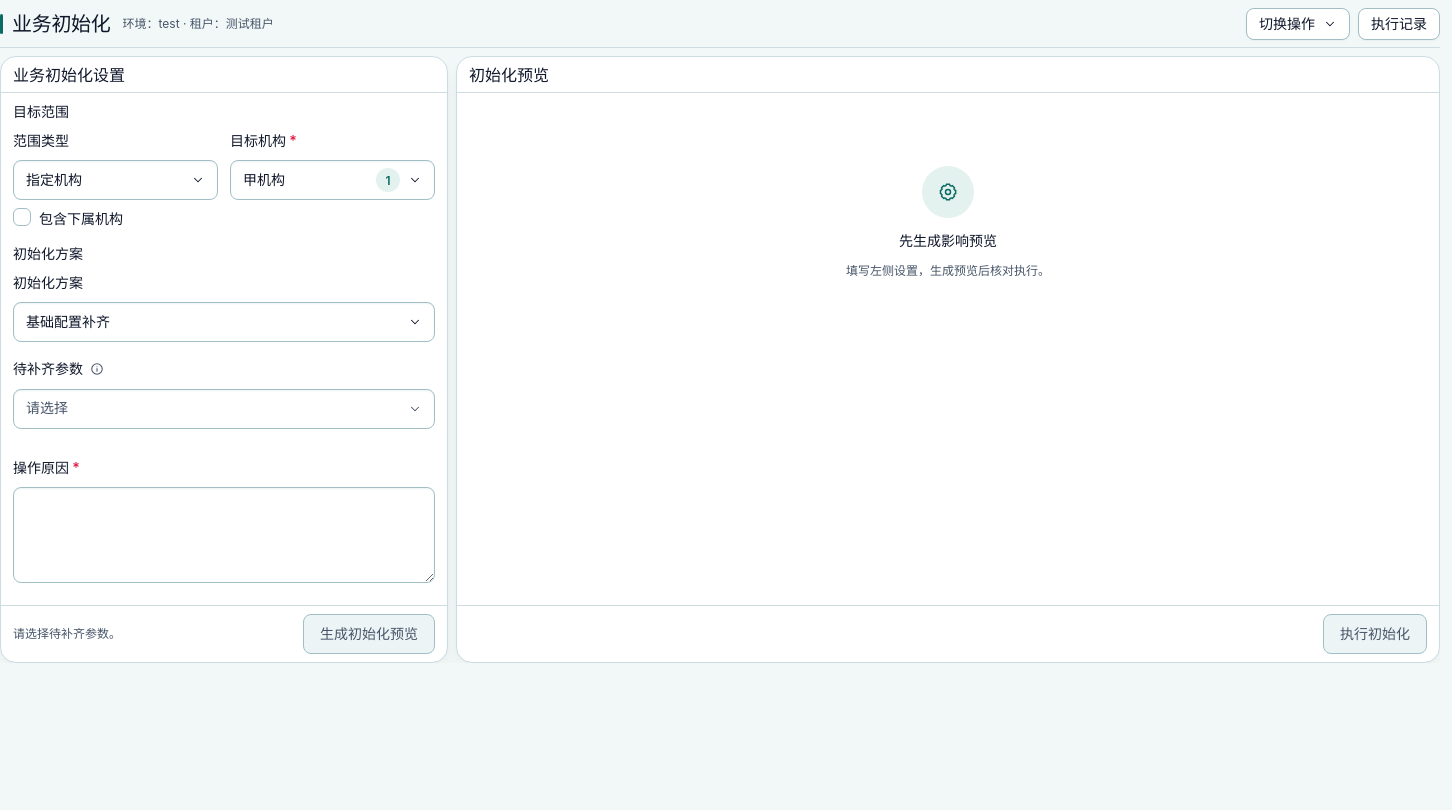
it: business maintenance scope and confirmation › clears the old executable plan when a replacement preview fails
Check: the text "环境：test · 租户：测试租户" is shown, box [122,14,274,32]
Click the dropdown named "待补齐参数".
click(47, 408)  # box [13,389,435,429]
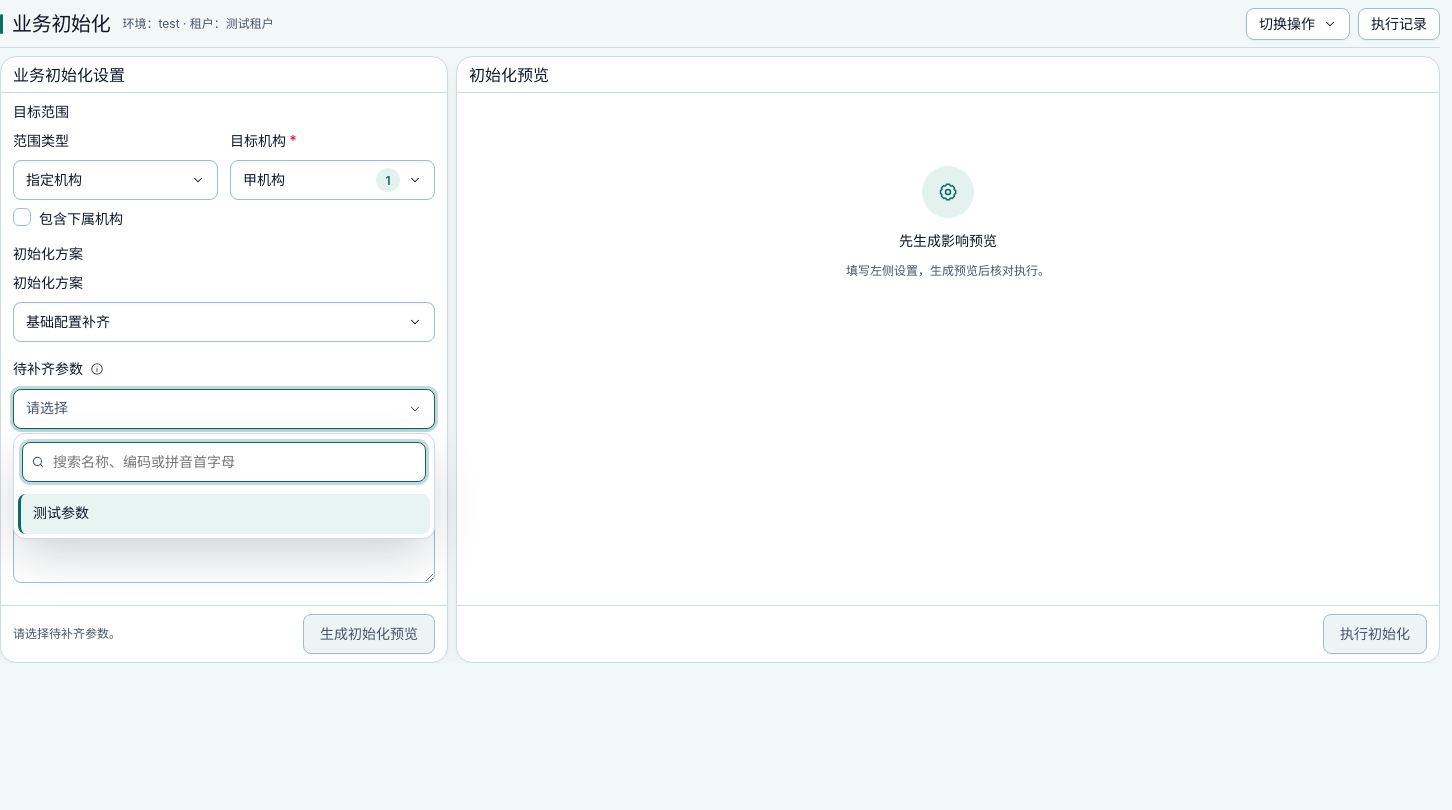
Click the option "测试参数".
click(61, 513)  # box [18,494,430,534]
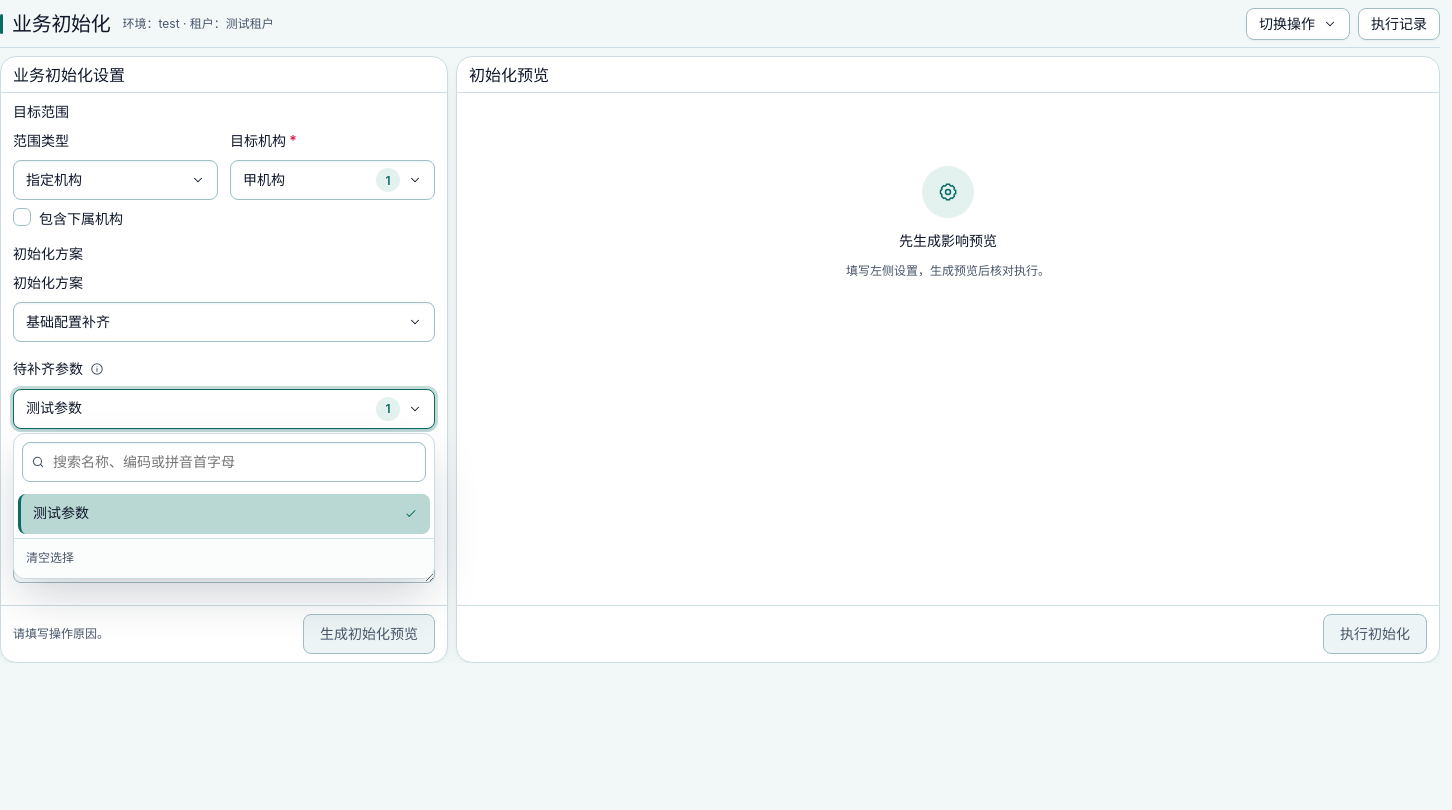
Press Escape
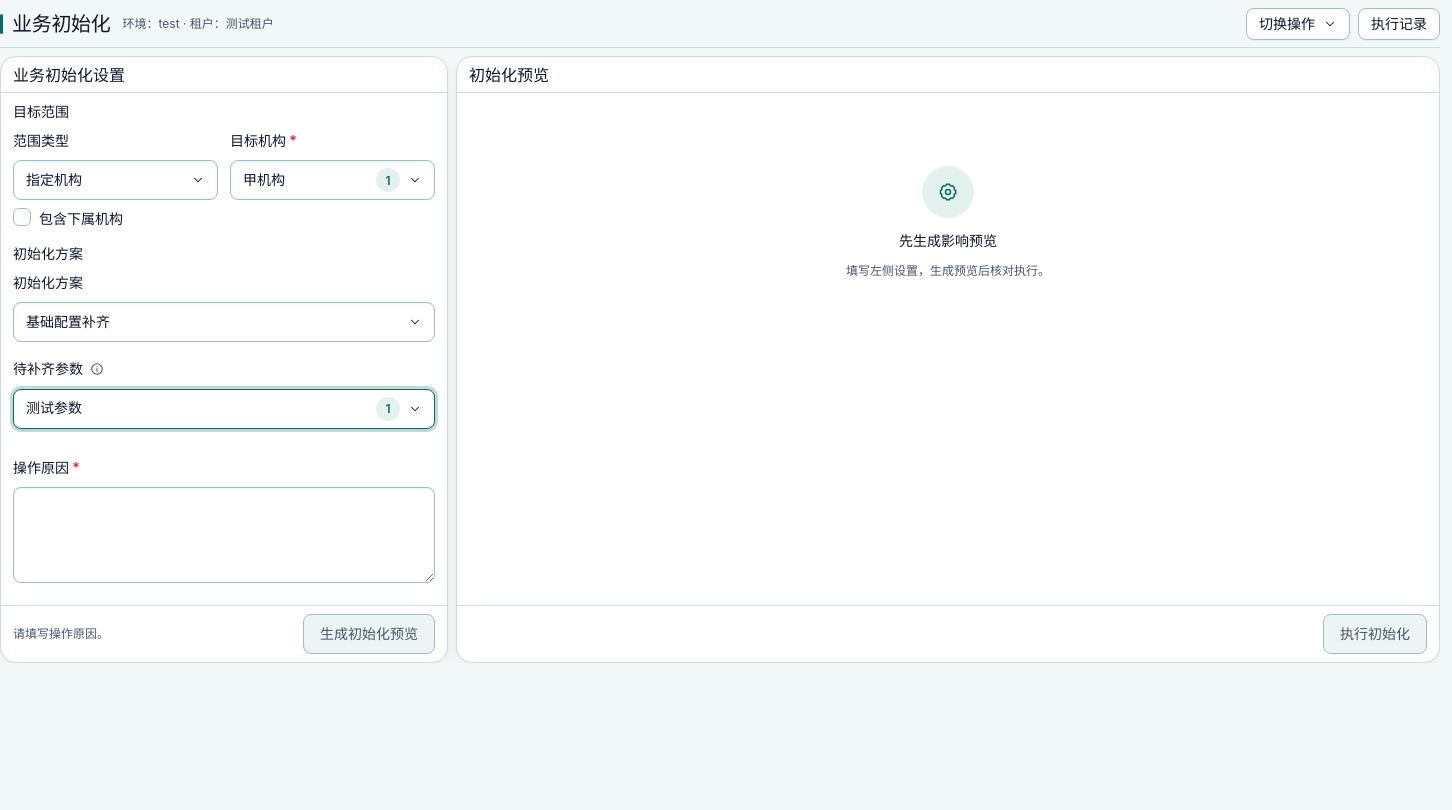
Type "上线前测试" into the text box labelled "操作原因*".
click(224, 535); type("上线前测试")  # box [13,487,435,583]
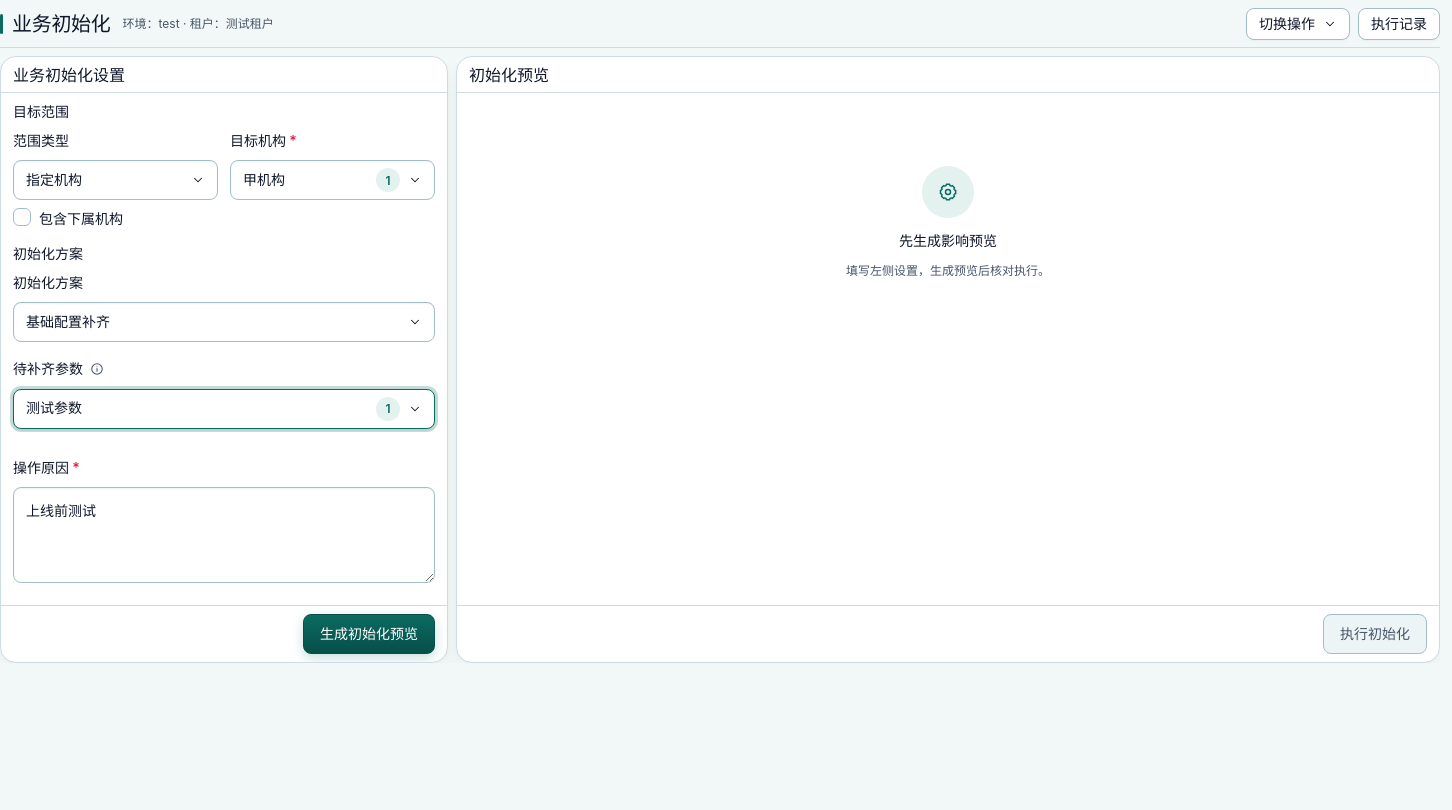
Click the button "生成初始化预览".
click(369, 634)  # box [303,614,435,654]
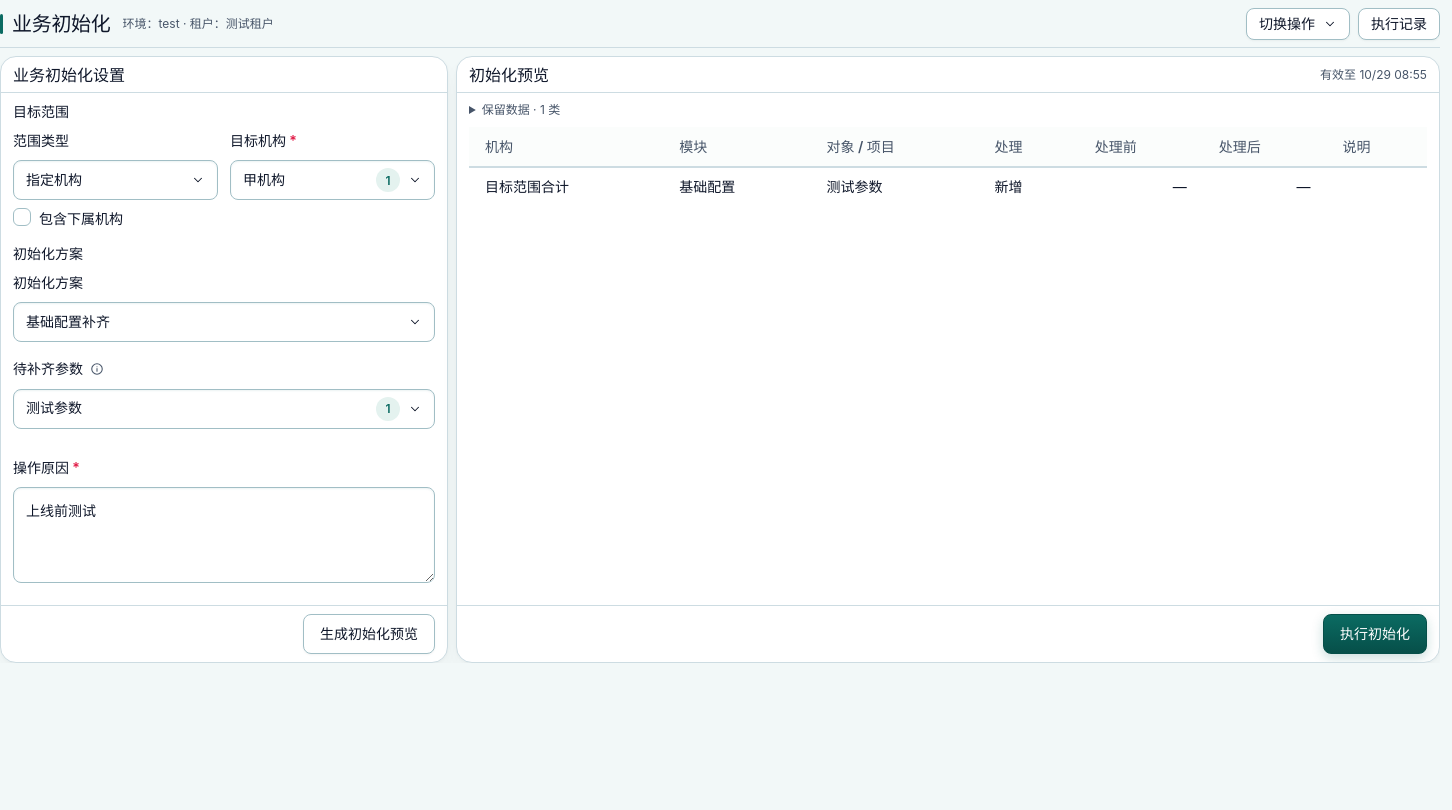
Check: the button "执行初始化" is enabled, box [1323,614,1427,654]
Click the button "生成初始化预览".
click(369, 634)  # box [303,614,435,654]
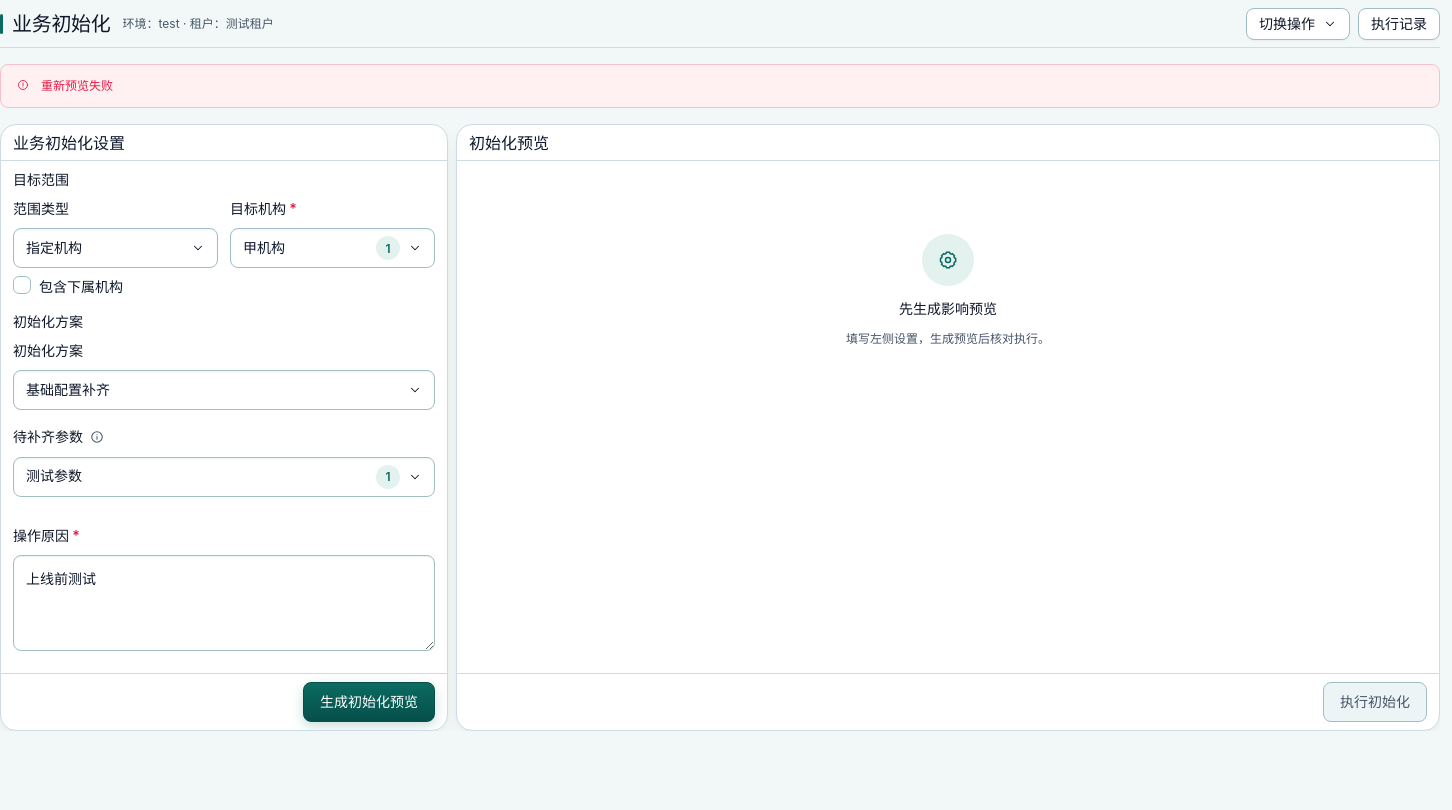
Check: the text "重新预览失败" is shown, box [41,78,113,93]
Check: the button "执行初始化" is disabled, box [1323,682,1427,722]
Check: the text "先生成影响预览" is shown, box [899,298,997,321]
